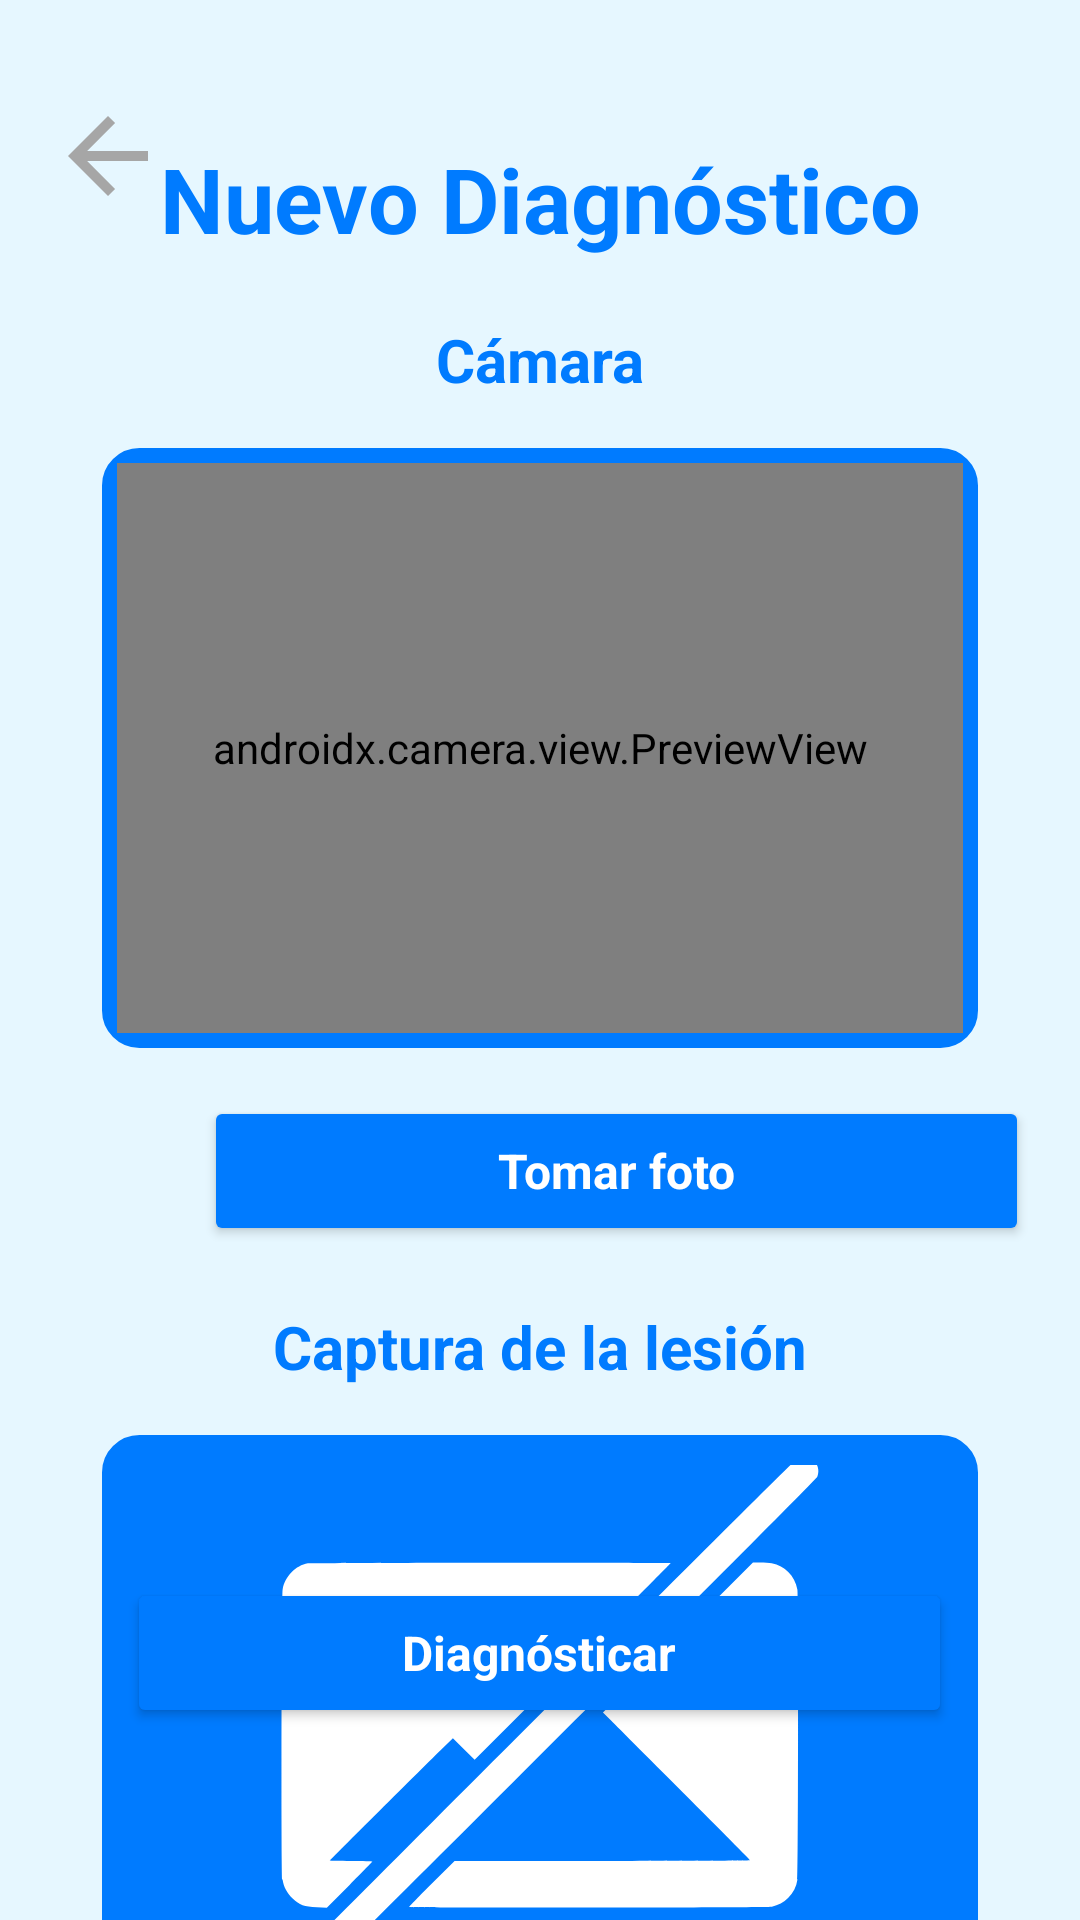

Where to tap for icons on this 1080×1920 app screen, as point (x, y):
flecha: point (108, 156)
